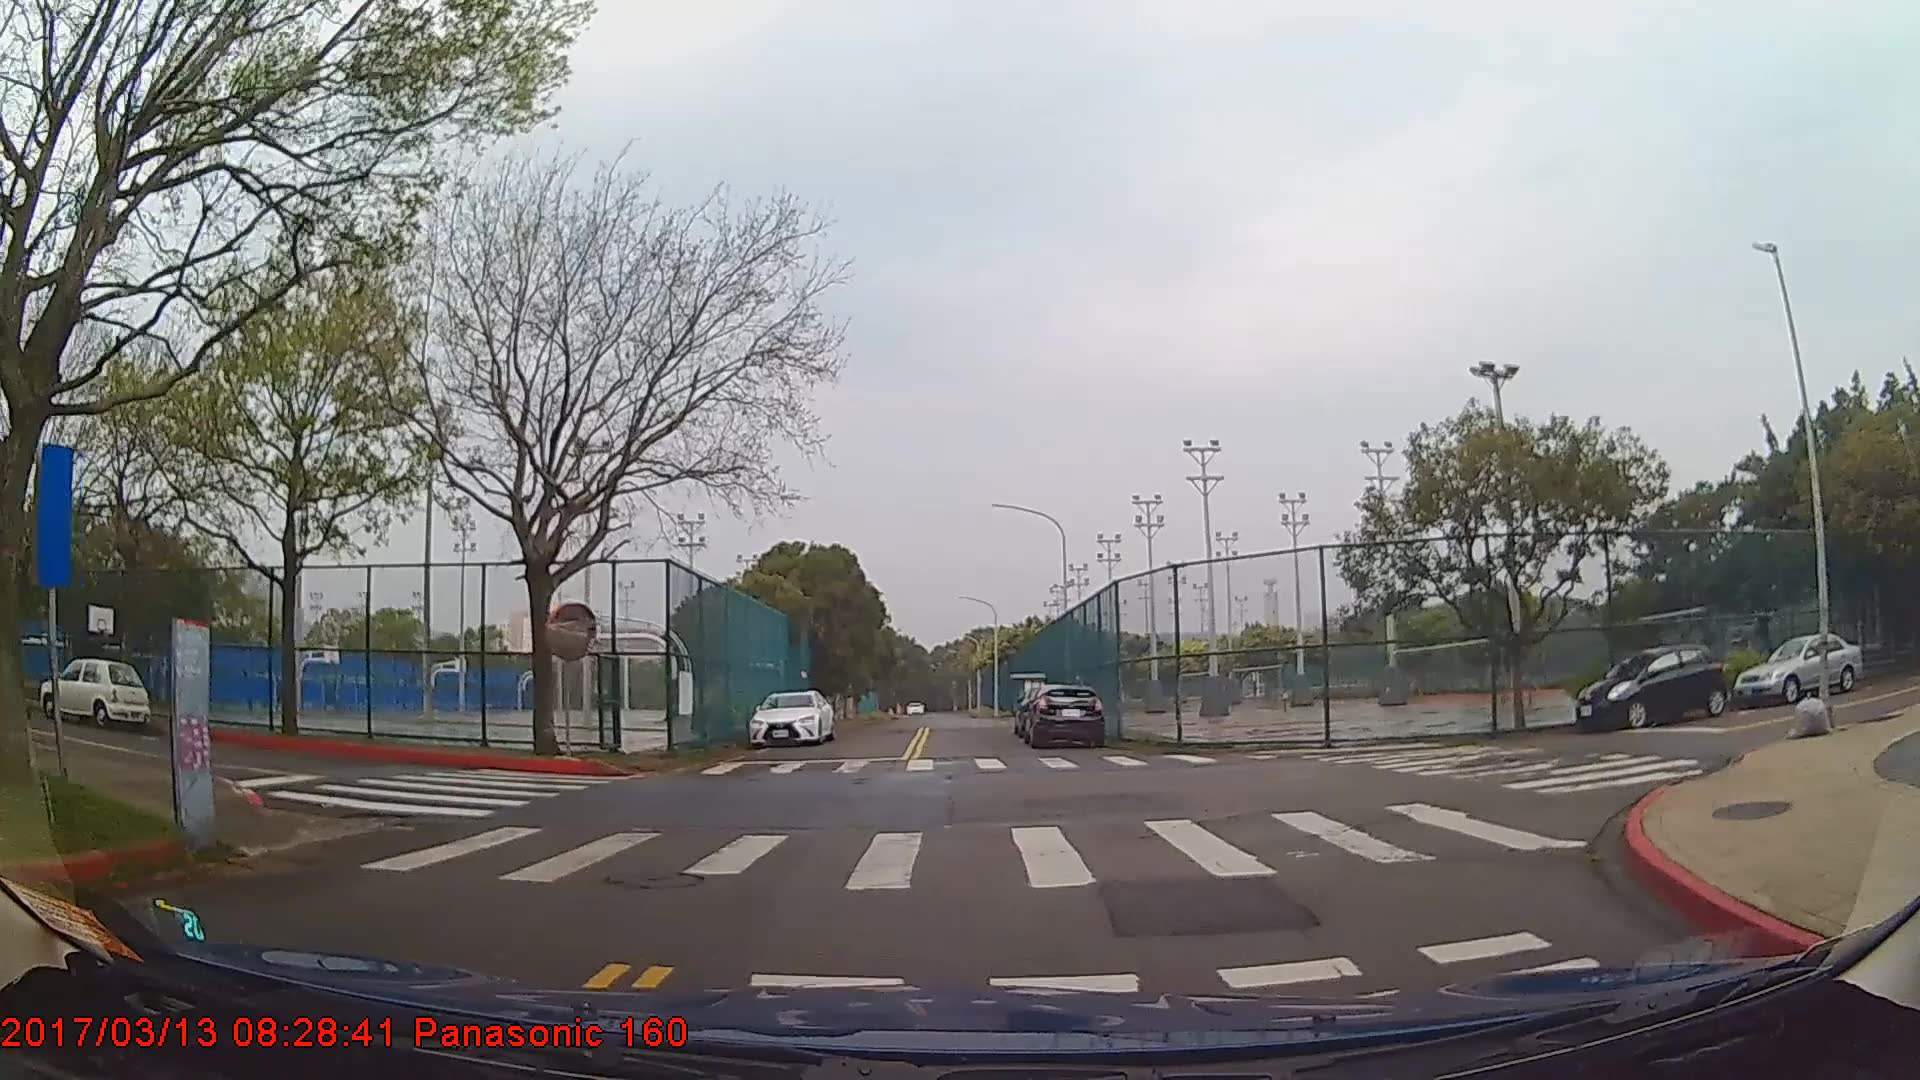vehicle: (1576, 641, 1727, 729), (1733, 632, 1865, 704), (44, 655, 148, 727), (1022, 683, 1102, 749), (748, 688, 833, 748)
